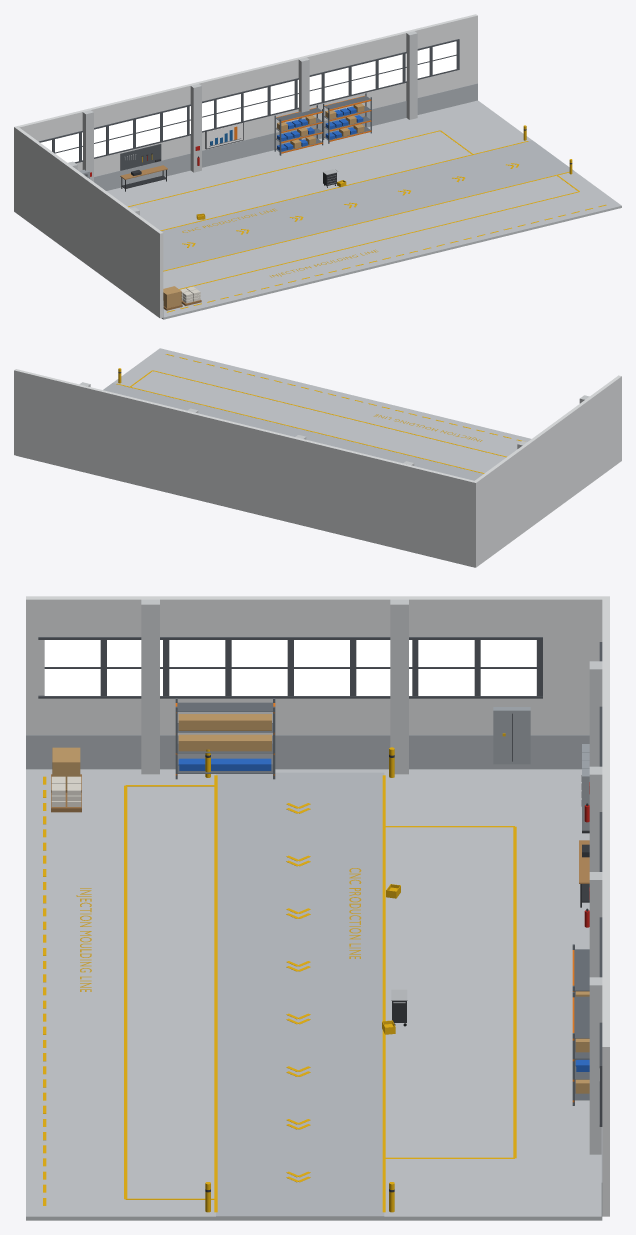
File: shopfloor_env_draco.glb
3 renders of one model, top to bottom at view 1: azimuth 30°, elevation 25°; view 2: azimuth 150°, elevation 25°; view 3: azimuth 270°, elevation 25°, orthographic. The views are drawn at different scales.
Visible parts, largest first — view 1: ENV_Floor, ENV_Walls, ENV_Windows, ENV_Storage, ENV_Props, ENV_FloorMarkings; view 2: ENV_Walls, ENV_Floor, ENV_FloorMarkings; view 3: ENV_Floor, ENV_Walls, ENV_Windows, ENV_FloorMarkings, ENV_Storage, ENV_Props.
Boxes of the visible parts, bbox=[...] form: ENV_Floor: bbox=[106, 100, 621, 319]; ENV_Walls: bbox=[14, 14, 477, 318]; ENV_Windows: bbox=[39, 39, 459, 163]; ENV_Storage: bbox=[274, 93, 371, 155]; ENV_Props: bbox=[79, 122, 572, 310]; ENV_FloorMarkings: bbox=[128, 130, 606, 312]; ENV_Walls: bbox=[14, 369, 621, 567]; ENV_Floor: bbox=[16, 348, 530, 567]; ENV_FloorMarkings: bbox=[116, 354, 521, 473]; ENV_Floor: bbox=[26, 769, 602, 1220]; ENV_Walls: bbox=[26, 596, 609, 1216]; ENV_Windows: bbox=[38, 637, 602, 1126]; ENV_FloorMarkings: bbox=[43, 775, 516, 1212]; ENV_Storage: bbox=[175, 698, 589, 1105]; ENV_Props: bbox=[51, 707, 589, 1212].
Size of the model in its own units: 34.25 by 6.15 by 18.75.
